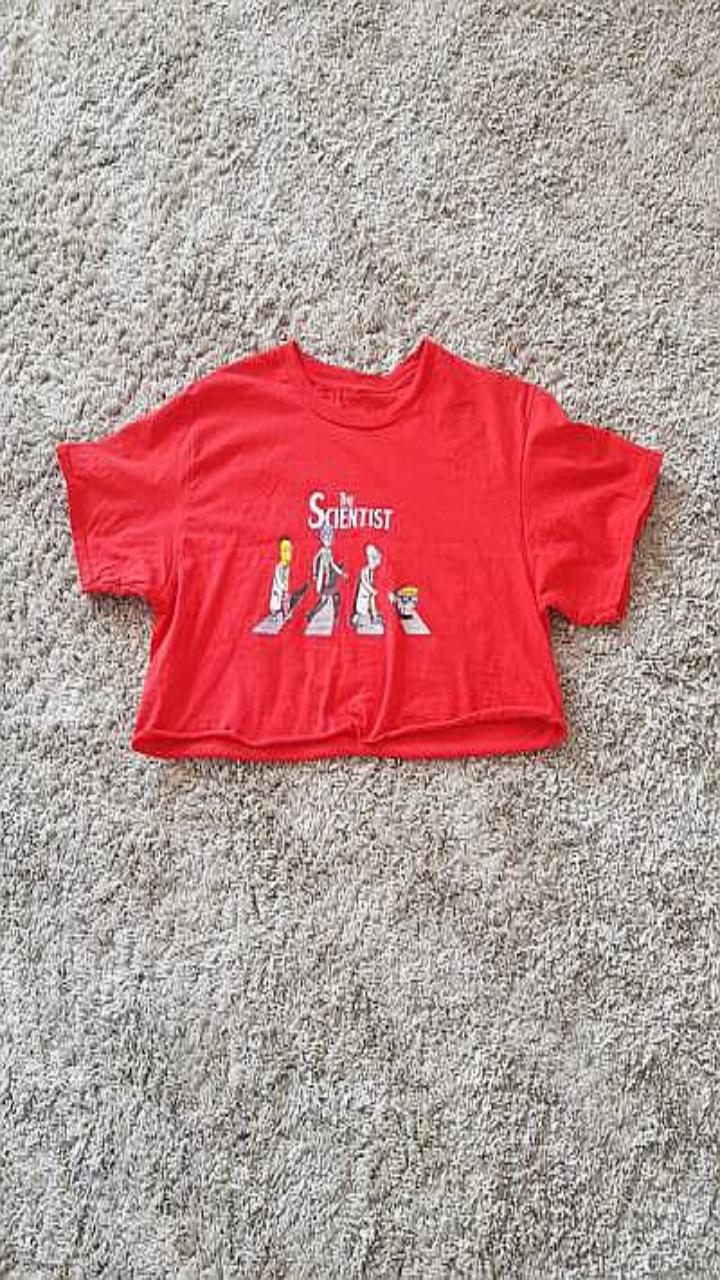T-Shirt: (56, 337, 663, 759)
